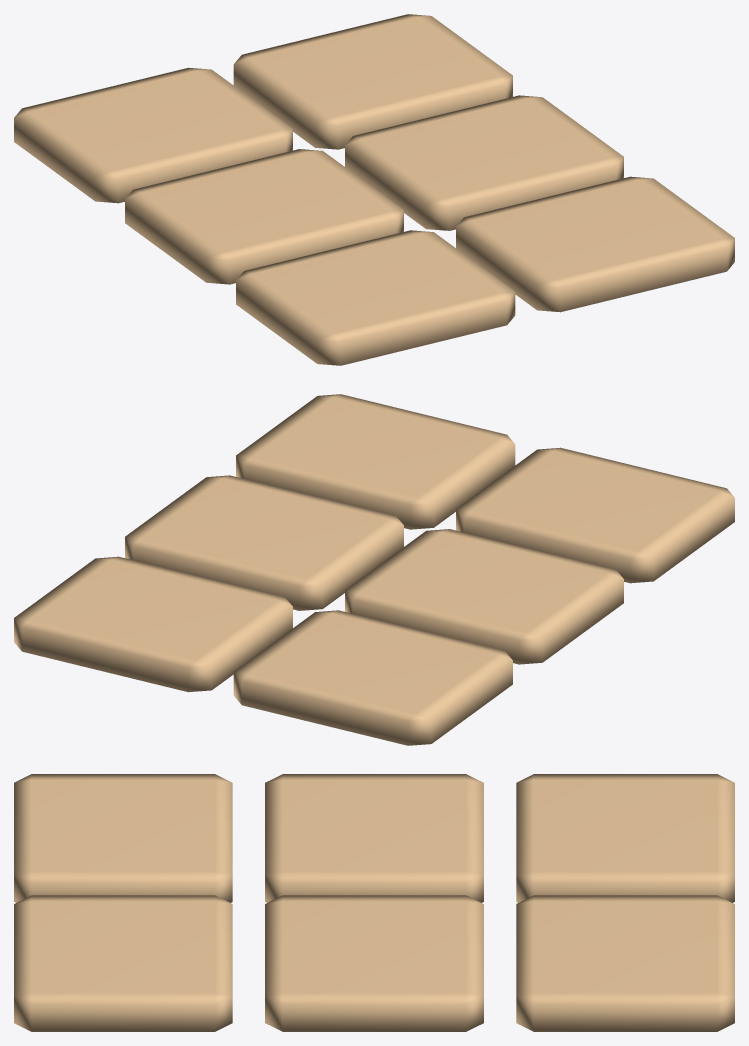
Rendered from path_stones.glb.
3 renders of one model, top to bottom at view 1: azimuth 30°, elevation 25°; view 2: azimuth 150°, elevation 25°; view 3: azimuth 270°, elevation 25°, orthographic. The views are drawn at different scales.
Parts seen in each view (by area): view 1: Path slab, Path slab.001, Path slab.002, Path slab.004, Path slab.005, Path slab.003; view 2: Path slab.004, Path slab.005, Path slab.002, Path slab, Path slab.001, Path slab.003; view 3: Path slab.001, Path slab.003, Path slab.005, Path slab, Path slab.002, Path slab.004.
Boxes of the visible parts, <box> form: Path slab: <box>236,230,515,365</box>; Path slab.001: <box>456,176,734,312</box>; Path slab.002: <box>125,149,403,284</box>; Path slab.004: <box>14,67,292,203</box>; Path slab.005: <box>233,14,512,149</box>; Path slab.003: <box>345,95,623,230</box>; Path slab.004: <box>233,610,512,745</box>; Path slab.005: <box>14,556,292,692</box>; Path slab.002: <box>345,529,623,664</box>; Path slab: <box>456,447,734,583</box>; Path slab.001: <box>236,394,515,529</box>; Path slab.003: <box>125,475,403,610</box>; Path slab.001: <box>14,895,232,1031</box>; Path slab.003: <box>265,895,483,1031</box>; Path slab.005: <box>516,895,734,1031</box>; Path slab: <box>14,774,232,902</box>; Path slab.002: <box>265,774,483,902</box>; Path slab.004: <box>516,774,734,902</box>.
Bounding box in the file's own units: 1.52 × 0.1 × 2.01.
